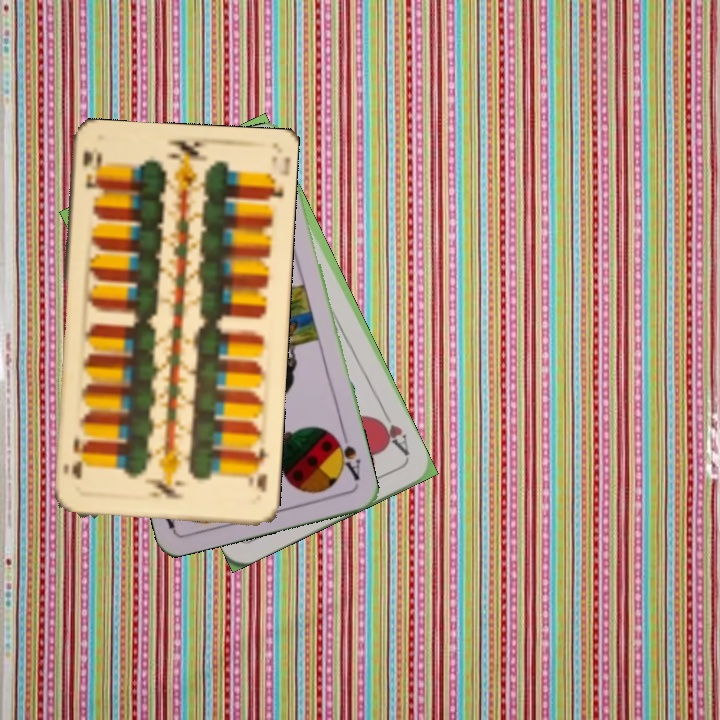E10: (245, 443, 272, 494), (78, 147, 103, 191)
HA: (372, 405, 413, 459)
SA: (329, 427, 363, 483)
